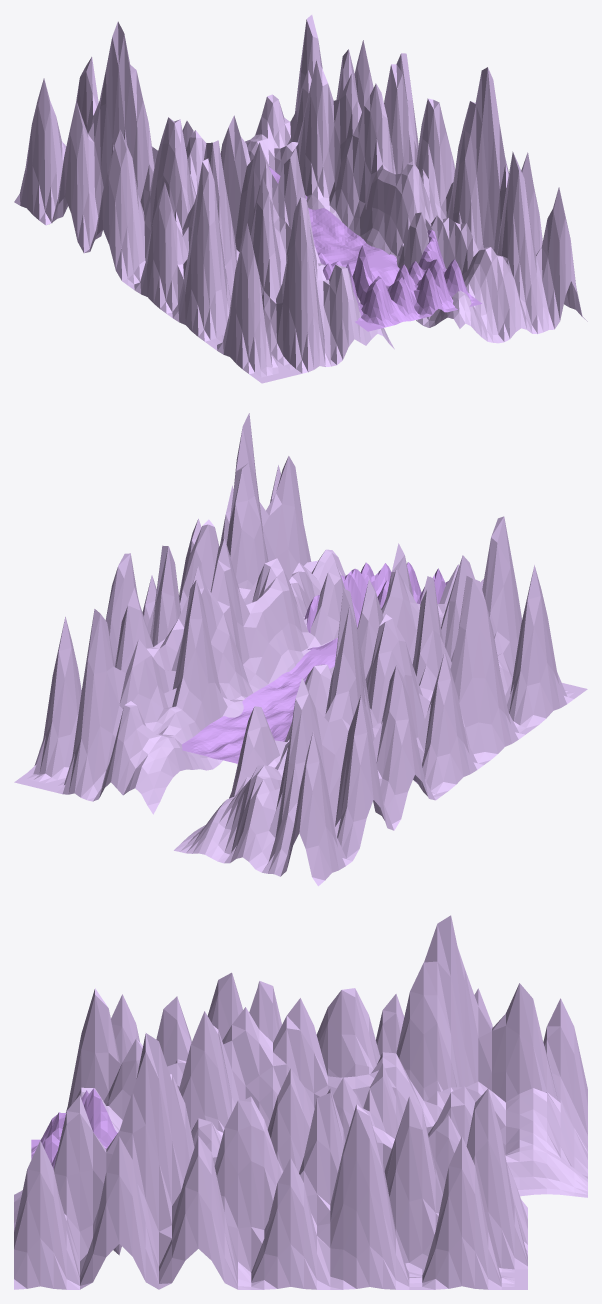
File: terrain_0.dae
The picture shows the model from 3 angles, top to bottom: view 1: azimuth 30°, elevation 25°; view 2: azimuth 150°, elevation 25°; view 3: azimuth 270°, elevation 25°; orthographic projection. The views are drawn at different scales.
Visible parts, largest first — view 1: group_7, group_8, group_6, group_0; view 2: group_7, group_8, group_0, group_6; view 3: group_8, group_7, group_6.
Part boxes in pixels (x1,y1,x2,y2): group_7: (14,21,394,383); group_8: (245,15,587,343); group_6: (317,230,481,331); group_0: (269,167,388,265); group_7: (174,516,587,886); group_8: (14,413,345,814); group_0: (182,649,335,763); group_6: (304,562,448,654); group_8: (14,1033,527,1289); group_7: (66,915,587,1197); group_6: (31,1088,117,1168).
Bounding box in the file's own units: 624 × 936 × 426.
